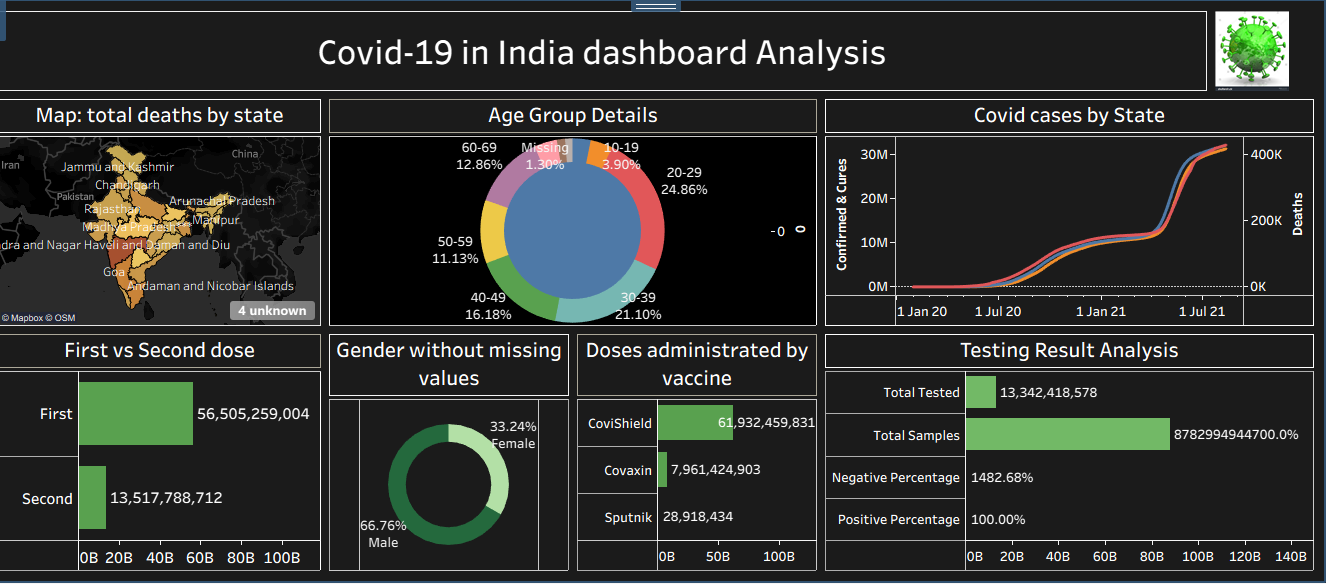

What the dashboard file says about the page in this screenshot:
{"tool":"tableau","page":{"name":"Dashboard 1","canvas":[1000,1000],"units":"permille","ordinal":0},"visuals":[{"type":"worksheet","title":"Title","mark":"Automatic","box":[6.9,13.7,906.2,150.6]},{"type":"image","param":"C:/Users/acer/Downloads/green image.jpg","box":[913.1,13.7,79.9,150.6]},{"type":"worksheet","title":"Map: total deaths by state","mark":"Automatic","box":[6.9,164.3,246.3,402.4]},{"type":"worksheet","title":"Age Group Details","mark":"Pie","rows":["Calculation_0590751003394061","Calculation_0590751003443215"],"box":[253.2,164.3,369.8,402.4]},{"type":"worksheet","title":"Covid Confirm,Recovery & Deaths","mark":"Automatic","rows":["Deaths"],"cols":["Date"],"box":[623,164.3,370.1,402.4]},{"type":"worksheet","title":"First vs Second dose administered","mark":"Automatic","box":[6.9,566.7,246.3,419.6]},{"type":"worksheet","title":"Gender Values","mark":"Pie","rows":["Calculation_0590751017160721","Calculation_0590751017201683"],"box":[253.2,566.7,184.9,419.6]},{"type":"worksheet","title":"Doses administrated by vaccine","mark":"Automatic","box":[438.1,566.7,184.9,419.6]},{"type":"worksheet","title":"Testing Result Total","mark":"Bar","box":[623,566.7,370.1,419.6]}]}

Visuals, with their boxes on the dashboard's canvas, which has no fixed pixel size, in thousandths of its width and height (x1, y1, x2, y2). These are canvas units, not pixel positions in the 1326x584 screenshot, which may show the page scaled, cropped or inside an application window:
"Title" worksheet: 7, 14, 913, 164
image: 913, 14, 993, 164
"Map: total deaths by state" worksheet: 7, 164, 253, 567
"Age Group Details" worksheet (Pie marks): 253, 164, 623, 567
"Covid Confirm,Recovery & Deaths" worksheet: 623, 164, 993, 567
"First vs Second dose administered" worksheet: 7, 567, 253, 986
"Gender Values" worksheet (Pie marks): 253, 567, 438, 986
"Doses administrated by vaccine" worksheet: 438, 567, 623, 986
"Testing Result Total" worksheet (Bar marks): 623, 567, 993, 986
